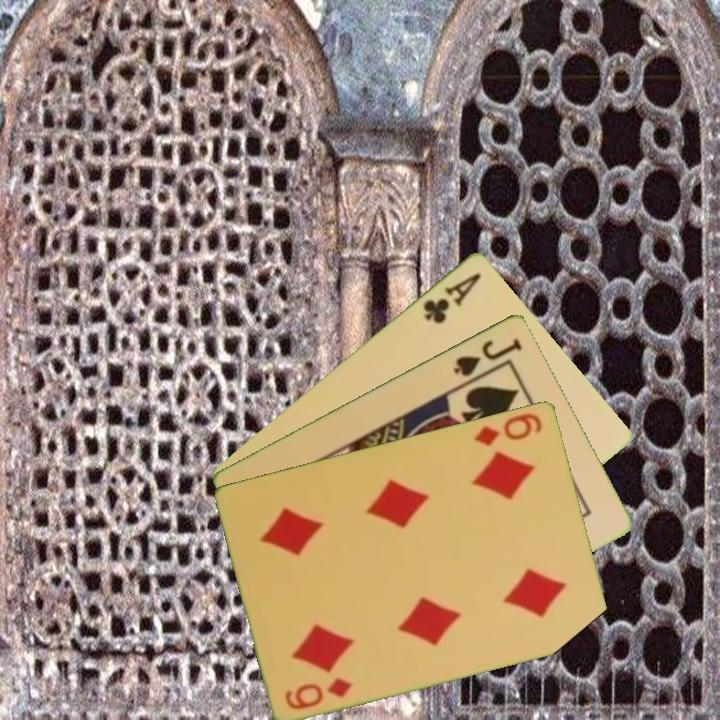6d: (471, 409, 546, 448), (281, 673, 356, 712)
Ac: (419, 268, 484, 326)
Js: (450, 334, 525, 379)
